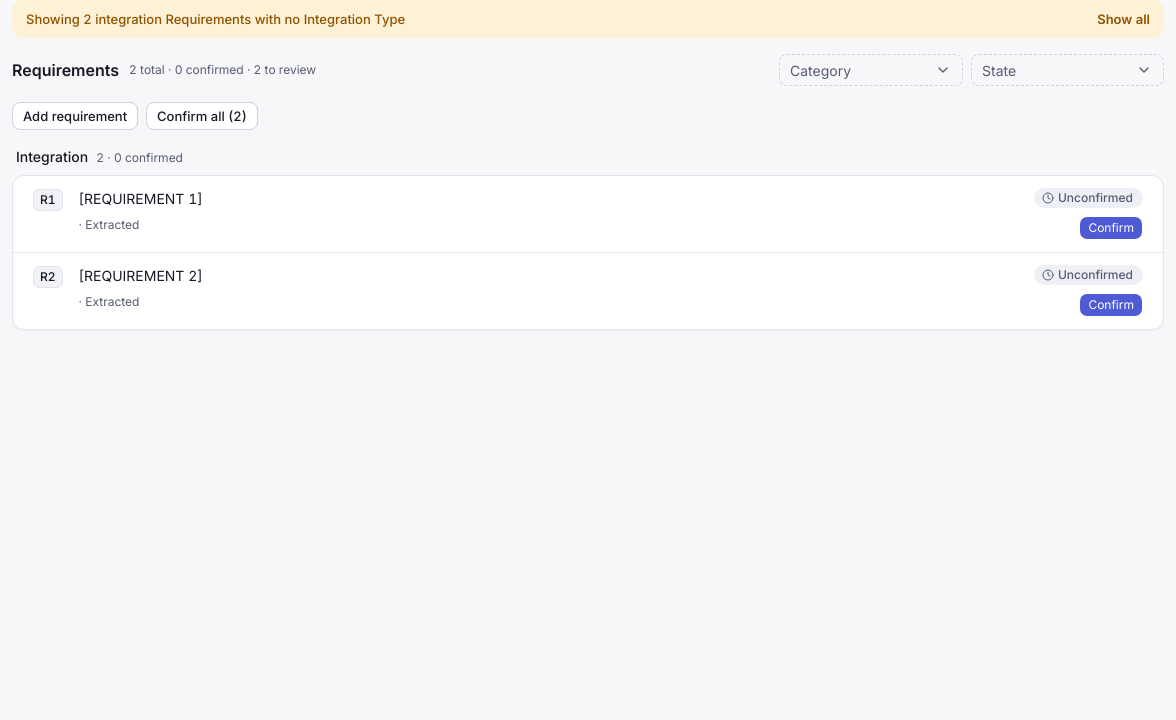
Test case: ?untagged=integration › keeps the open Requirement listed after tagging it, while the count drops
Click the button "[REQUIREMENT 1]".
click(141, 199)  # box [79, 188, 1018, 209]
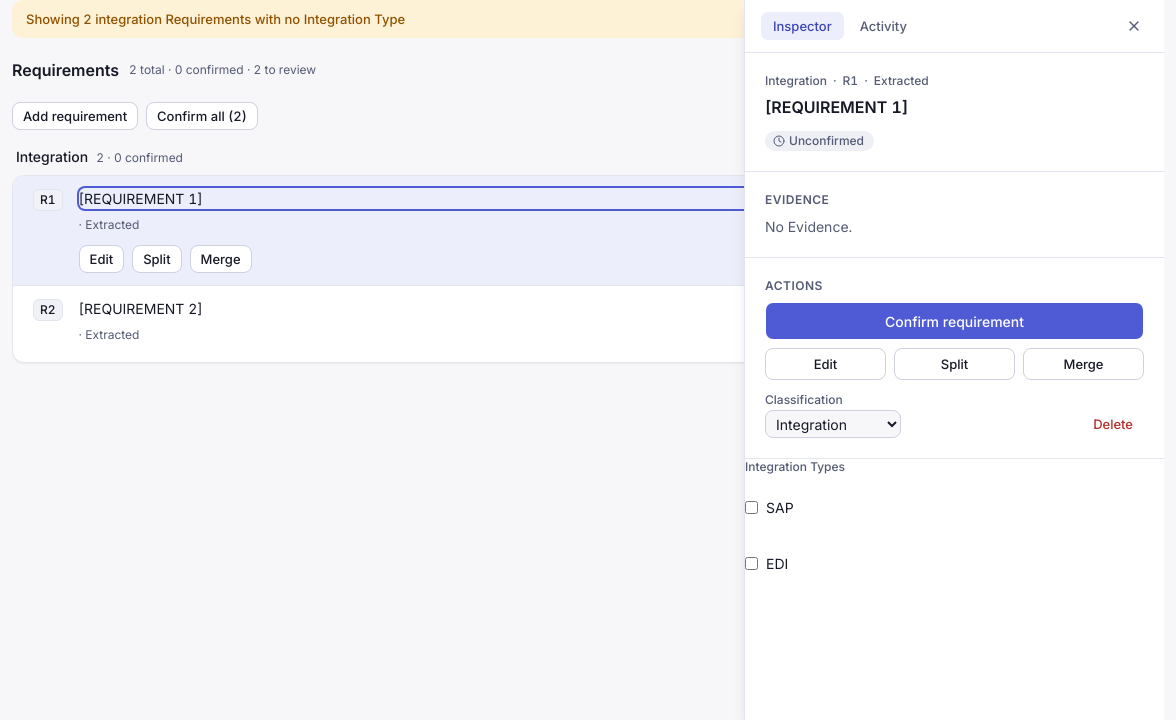
Click the checkbox labelled "SAP".
click(752, 507)  # box [745, 501, 758, 514]
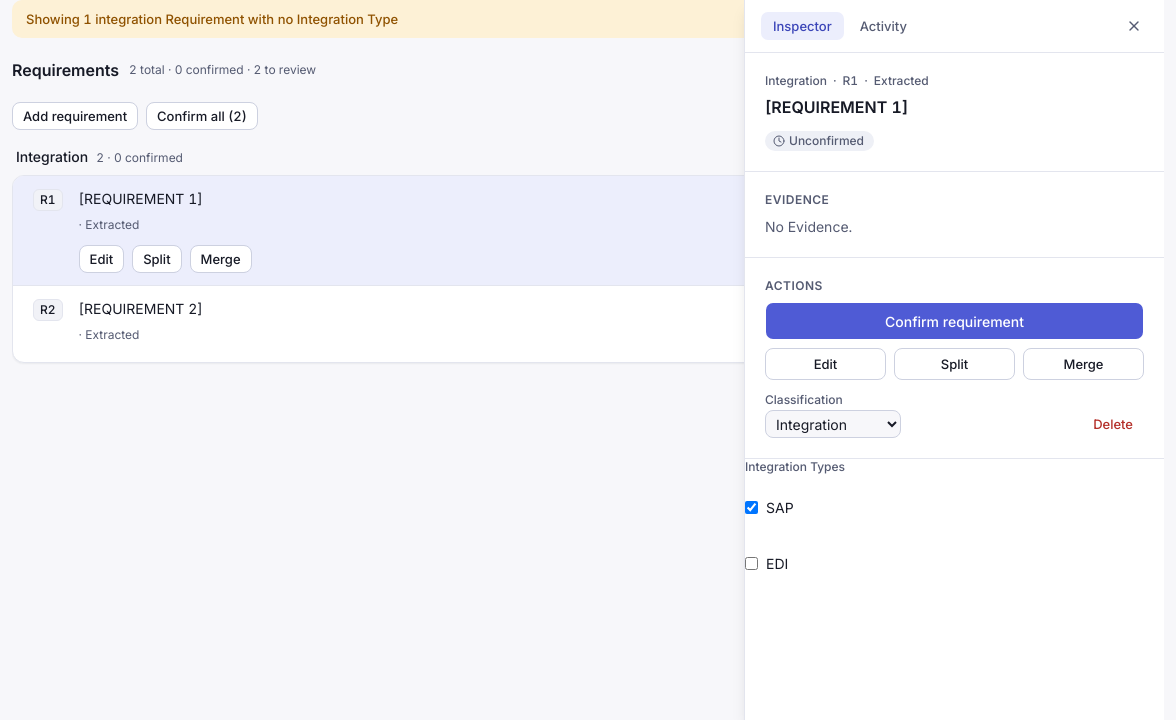
Expected: the button "[REQUIREMENT 1]" is shown, [79, 188, 1018, 209]
Expected: the message with test id "untagged-filter" shows "Showing 1 integration Requirement with no Integration Type", [26, 11, 398, 27]
